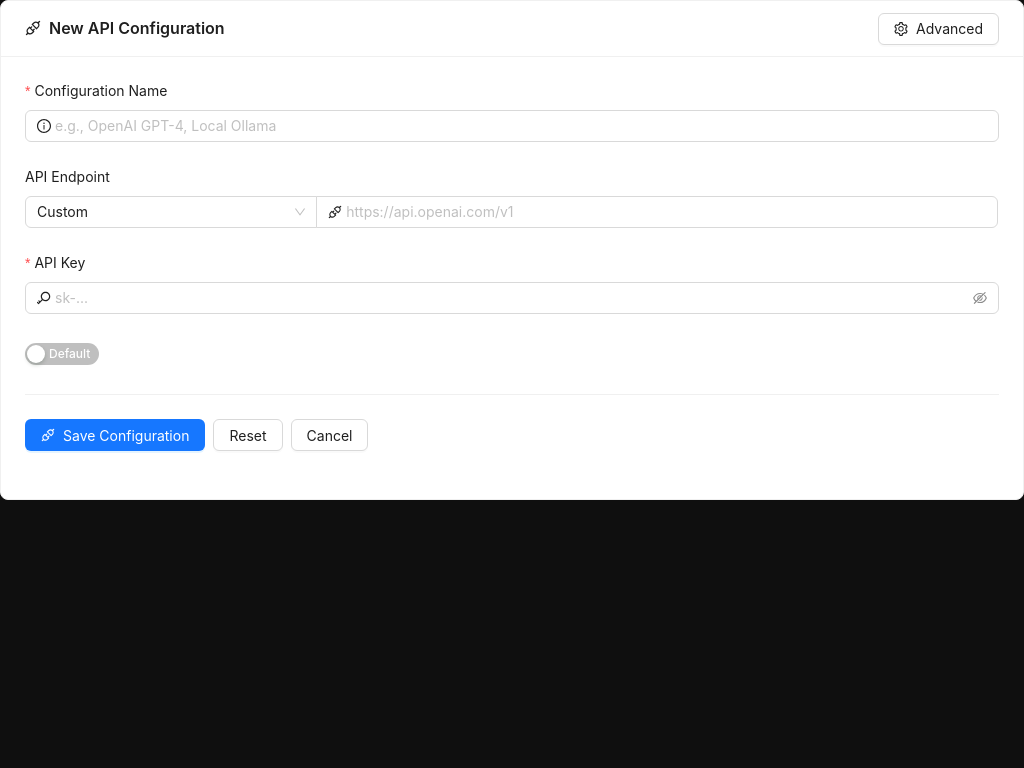
Test: APIConfigForm › switches between simple and advanced modes
The width and height of the screenshot is (1024, 768).
Click the button "Advanced": (938, 28) [878, 12, 999, 44]
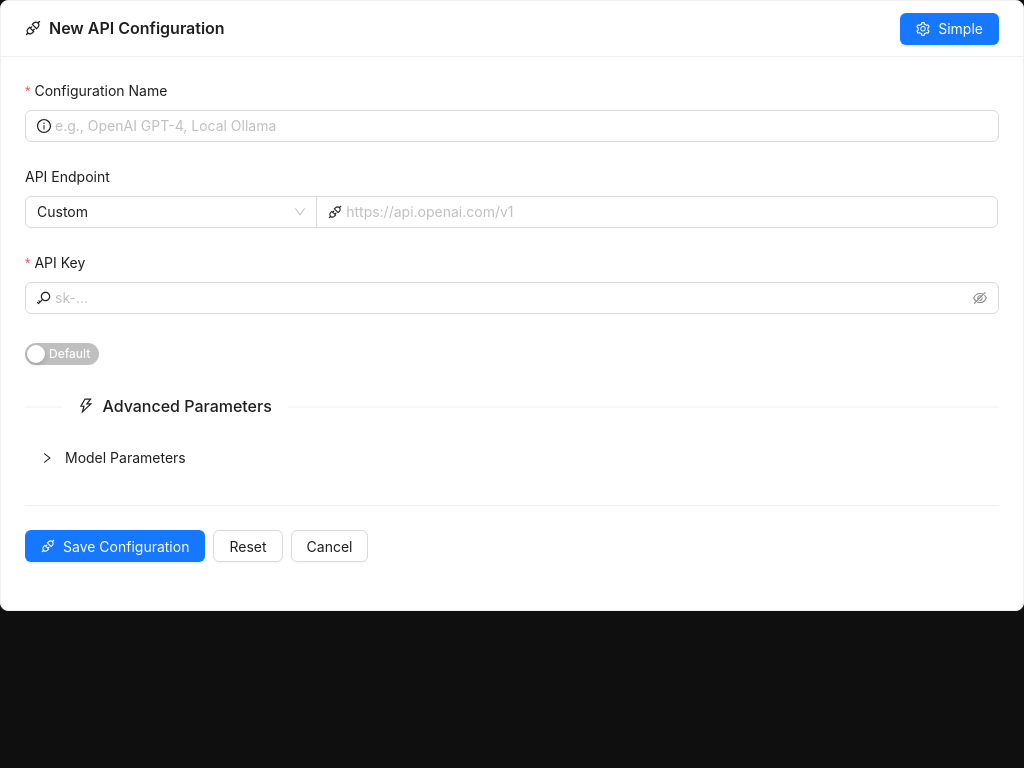
Now the text "Advanced Parameters" is shown, box [102, 394, 272, 419]
